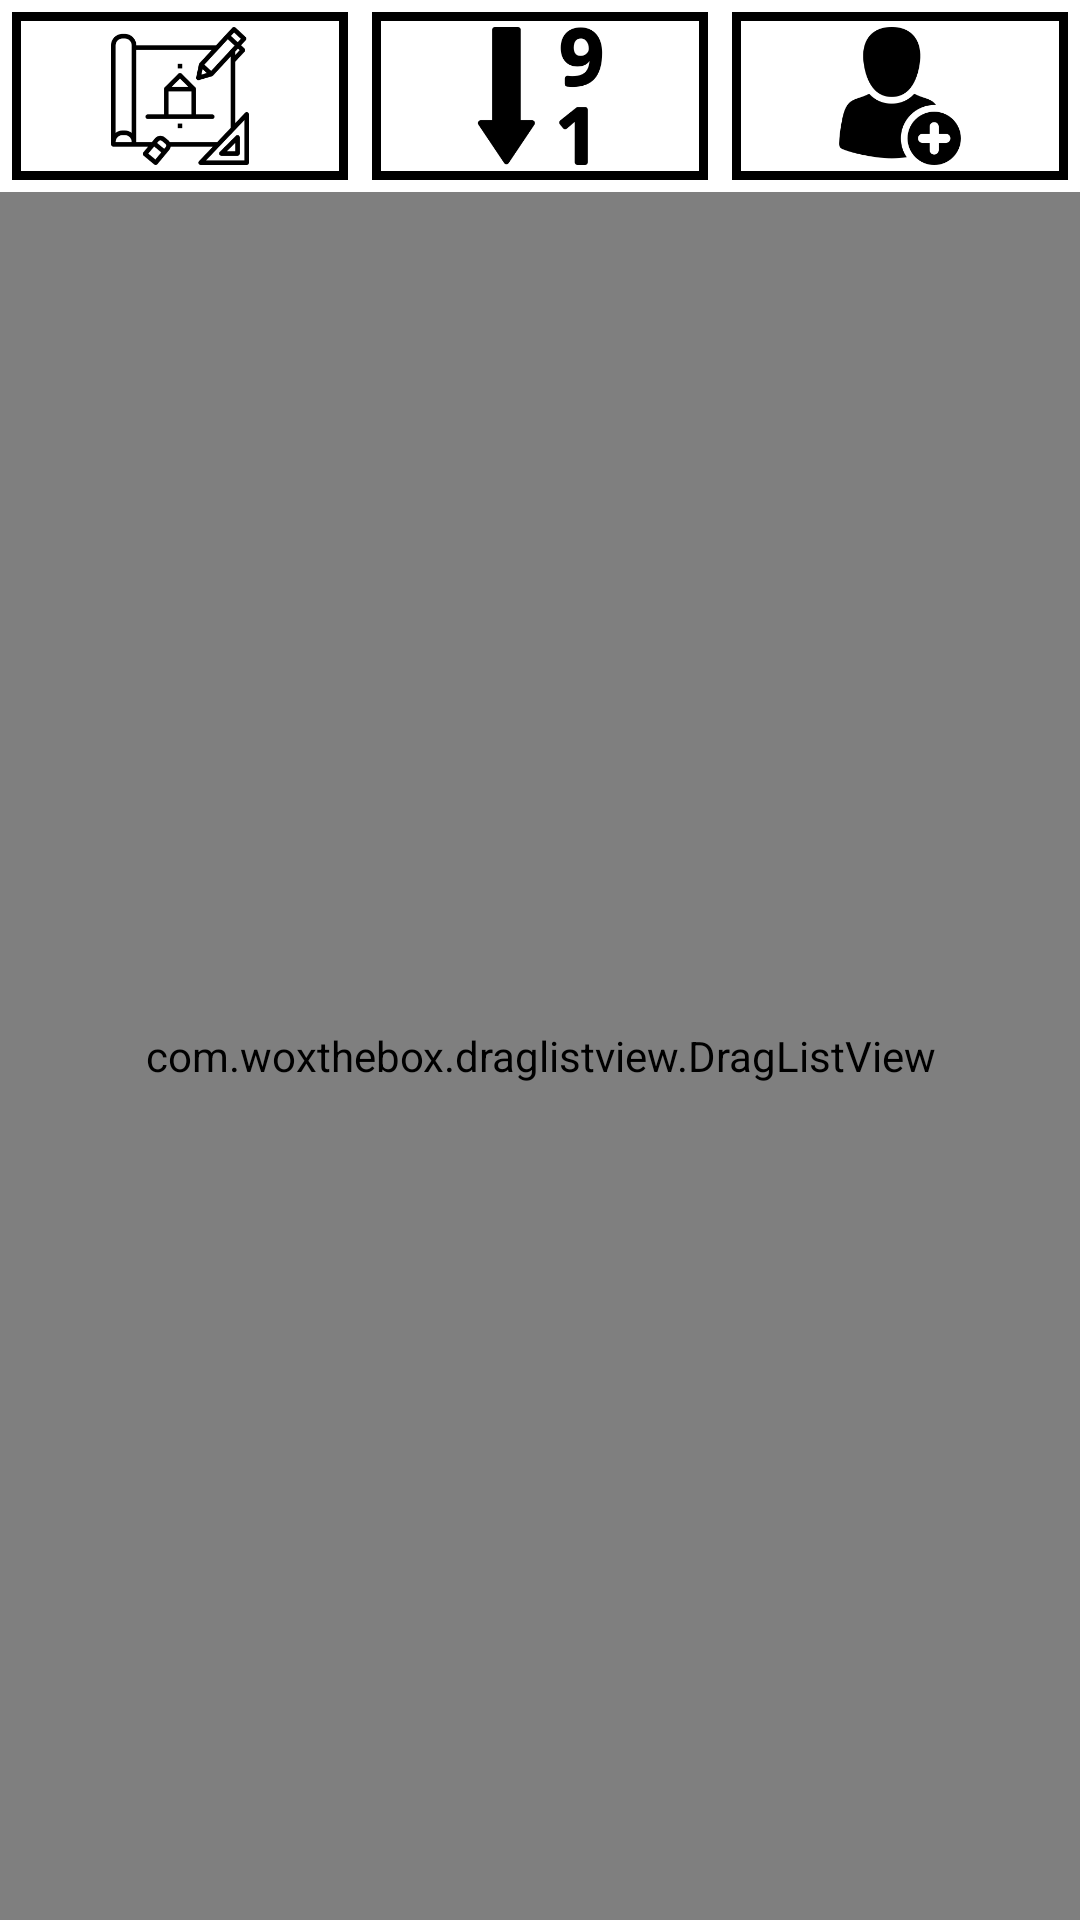

Icon click points for this 1080*1920 phone screenshot, format (x,y):
addcreature: (900,96)
drawing: (180,96)
sort: (540,96)
